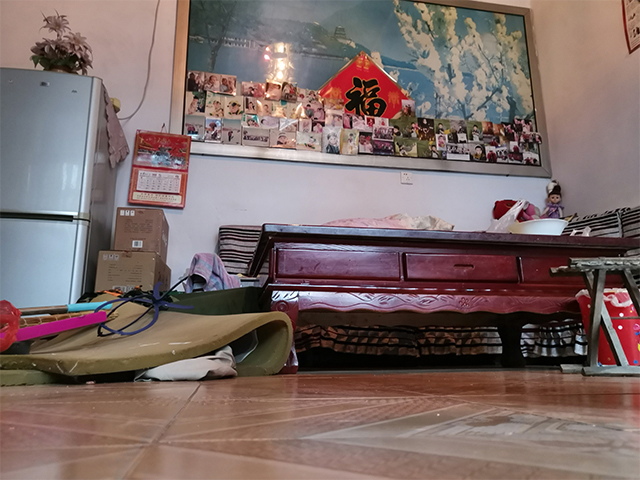stool: (546, 253, 640, 379)
table: (244, 220, 640, 376)
trashcan: (573, 286, 640, 368)
